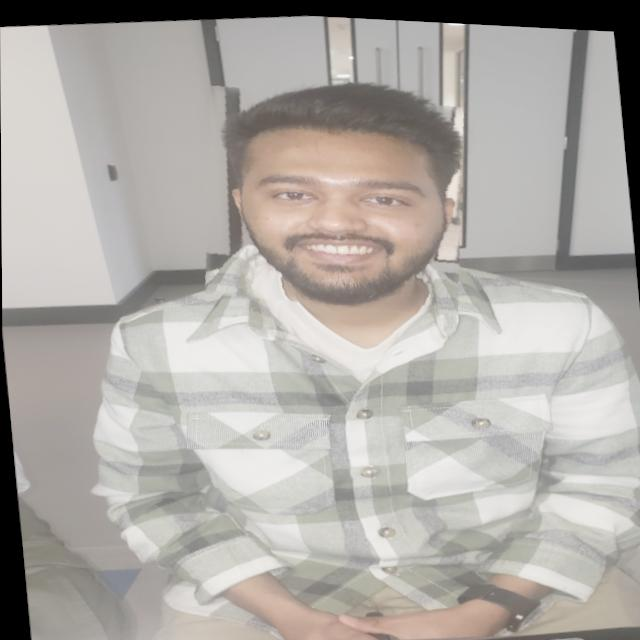happy: (191, 68, 476, 325)
